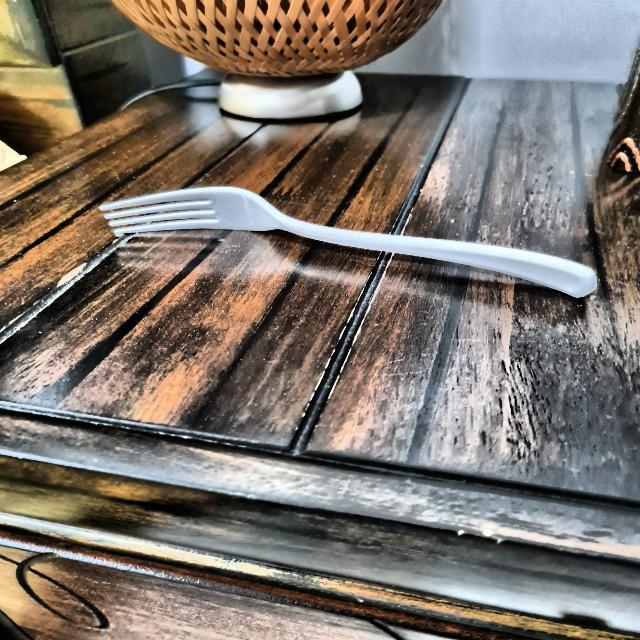plastic utensil: (98, 183, 599, 302)
